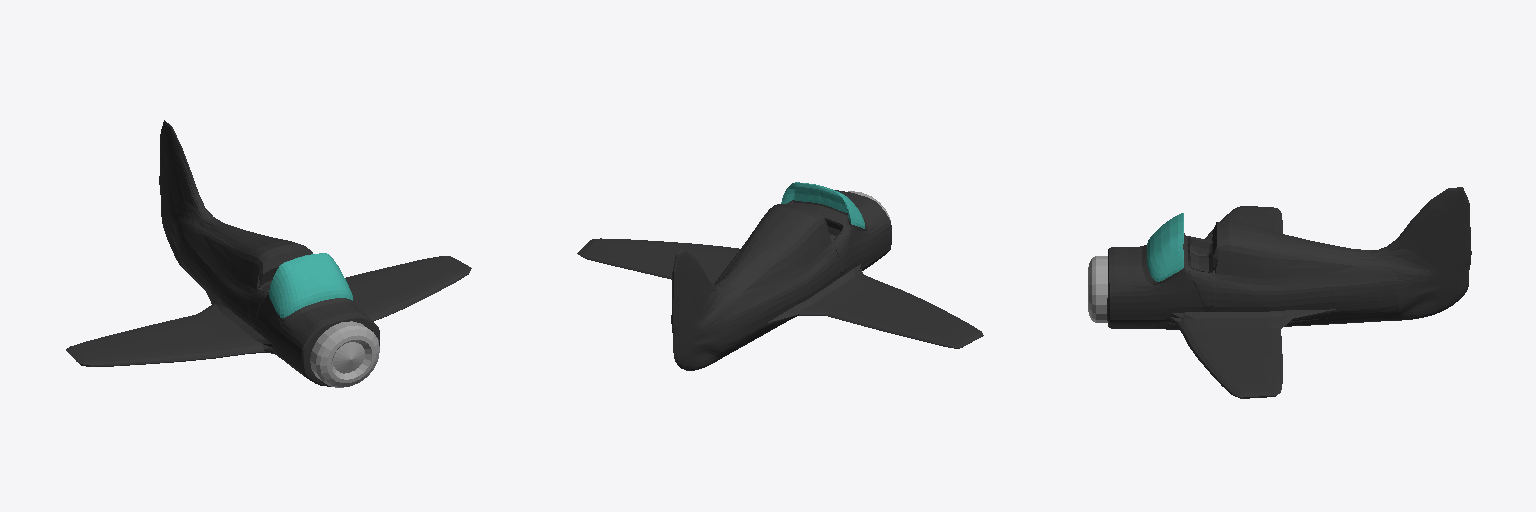
File: CuerpoAvion1.obj
3 views of the same model, side by side, from view 1: azimuth 30°, elevation 25°; view 2: azimuth 150°, elevation 25°; view 3: azimuth 270°, elevation 25° (orthographic).
Visible parts, largest first — view 1: CuerpoAvion_CuerpoAvion1_Avion1, FrenteAvion1_CuerpoAvion1_Avion1.001, CuerpoAvion1_Avion1_Parabrisas; view 2: CuerpoAvion_CuerpoAvion1_Avion1, CuerpoAvion1_Avion1_Parabrisas; view 3: CuerpoAvion_CuerpoAvion1_Avion1, CuerpoAvion1_Avion1_Parabrisas, FrenteAvion1_CuerpoAvion1_Avion1.001.
Boxes of the visible parts, x1,y1,x2,y2 form: CuerpoAvion_CuerpoAvion1_Avion1: [66, 120, 471, 386]; FrenteAvion1_CuerpoAvion1_Avion1.001: [310, 321, 379, 387]; CuerpoAvion1_Avion1_Parabrisas: [269, 253, 352, 317]; CuerpoAvion_CuerpoAvion1_Avion1: [577, 190, 983, 370]; CuerpoAvion1_Avion1_Parabrisas: [781, 182, 864, 228]; CuerpoAvion_CuerpoAvion1_Avion1: [1107, 187, 1471, 398]; CuerpoAvion1_Avion1_Parabrisas: [1147, 213, 1183, 281]; FrenteAvion1_CuerpoAvion1_Avion1.001: [1088, 256, 1107, 322].
Size of the model in its own units: 13.52 by 4.54 by 11.43.